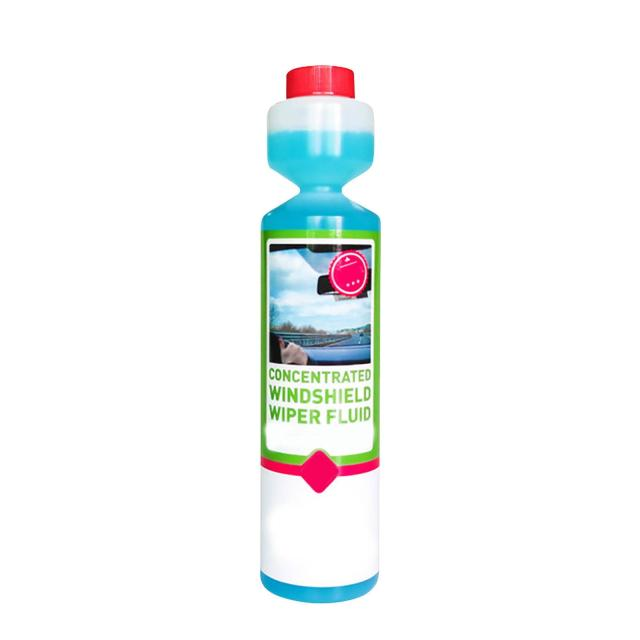winwinshield_washer: (253, 55, 388, 607)
